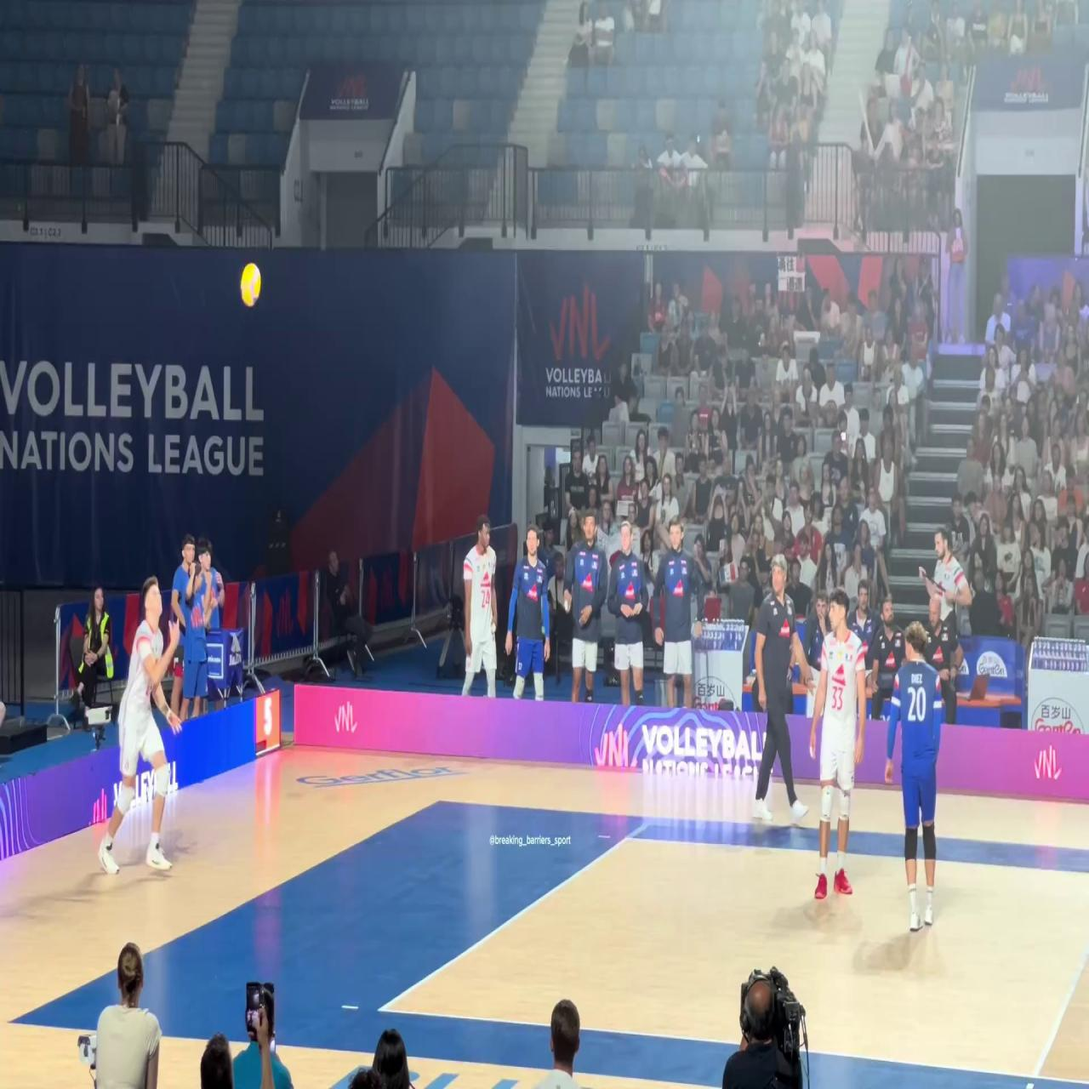ball: (240, 262, 260, 308)
